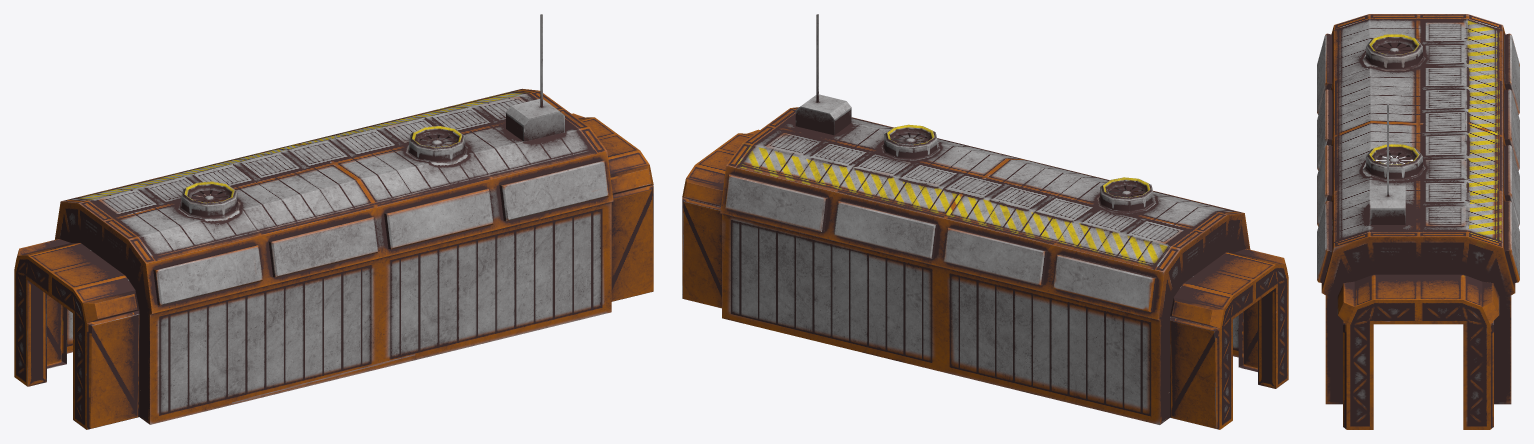
Rendered from Energo_pereabotchik.fbx.
3 renders of one model, left to right at view 1: azimuth 30°, elevation 25°; view 2: azimuth 150°, elevation 25°; view 3: azimuth 270°, elevation 25°, orthographic. The views are drawn at different scales.
Parts seen in each view (by area): view 1: Cube.003; view 2: Cube.003; view 3: Cube.003, Cylinder.003, Cylinder.005.
Boxes of the visible parts, <box> form: Cube.003: <box>14,14,653,429</box>; Cube.003: <box>682,14,1288,429</box>; Cube.003: <box>1317,14,1519,429</box>; Cylinder.003: <box>1376,42,1412,54</box>; Cylinder.005: <box>1376,152,1412,164</box>.
Size of the model in its own units: 905 by 433 by 283.
